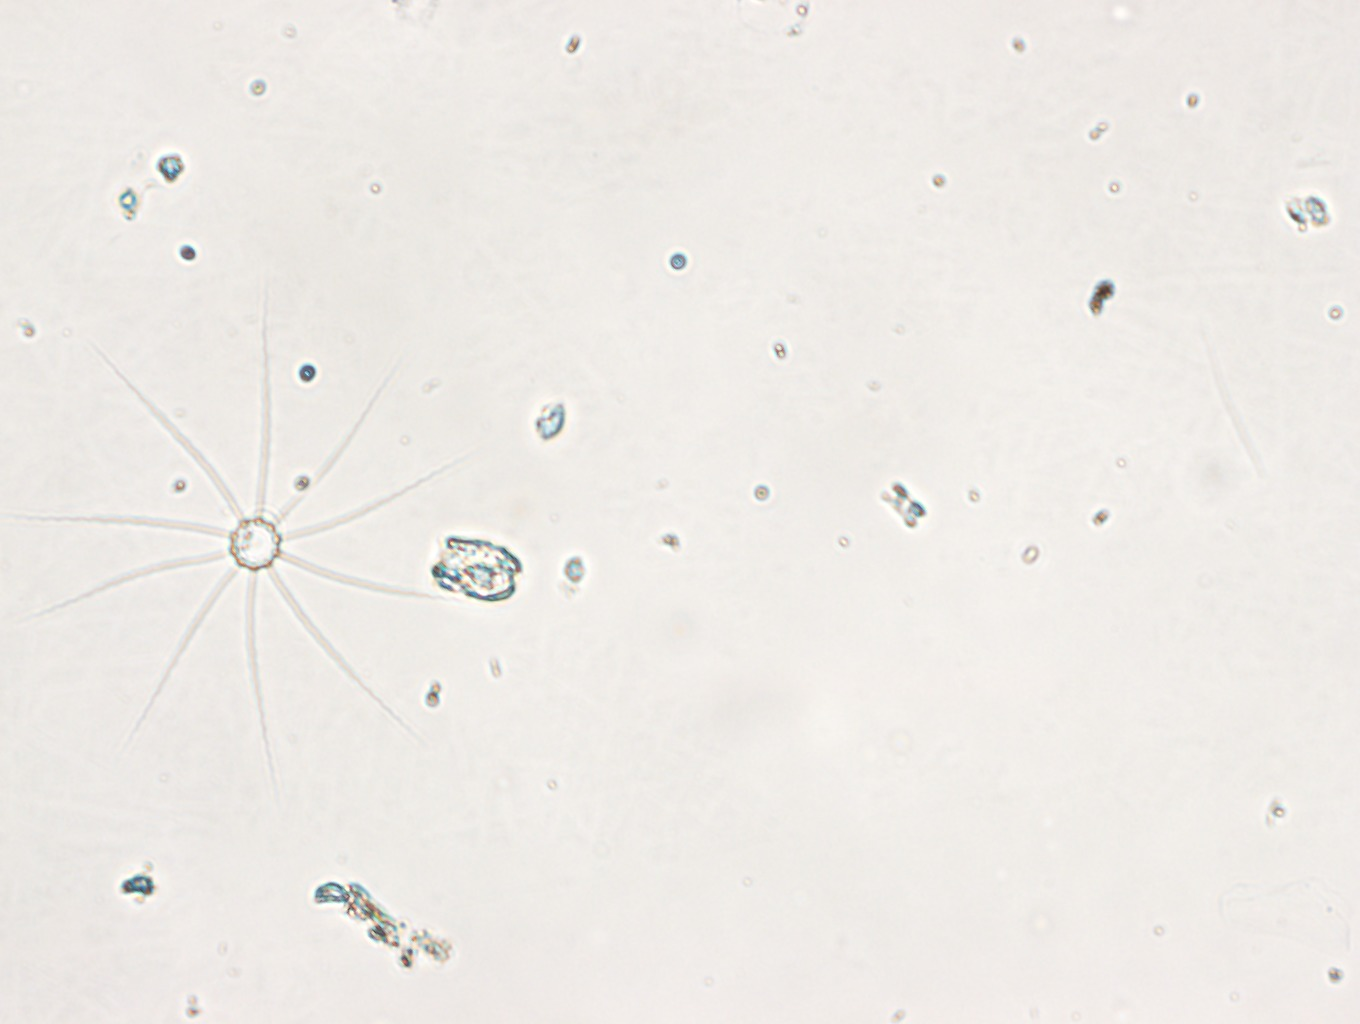bacteriastrum: (38, 328, 449, 764)
